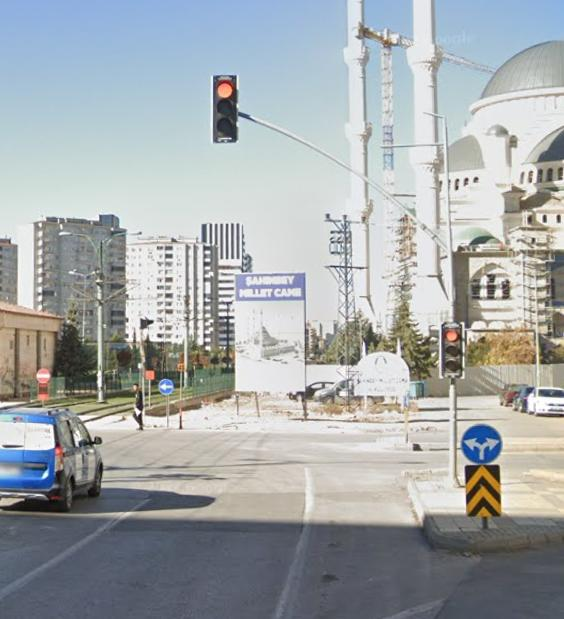redlight: (214, 74, 236, 138), (441, 323, 462, 375)
